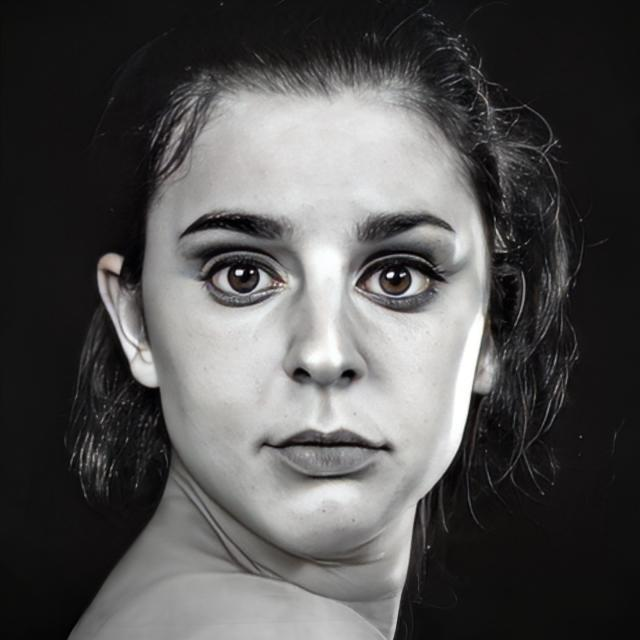neutral: (139, 56, 487, 563)
